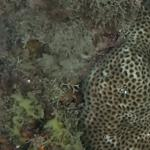dead: (6, 2, 141, 143)
